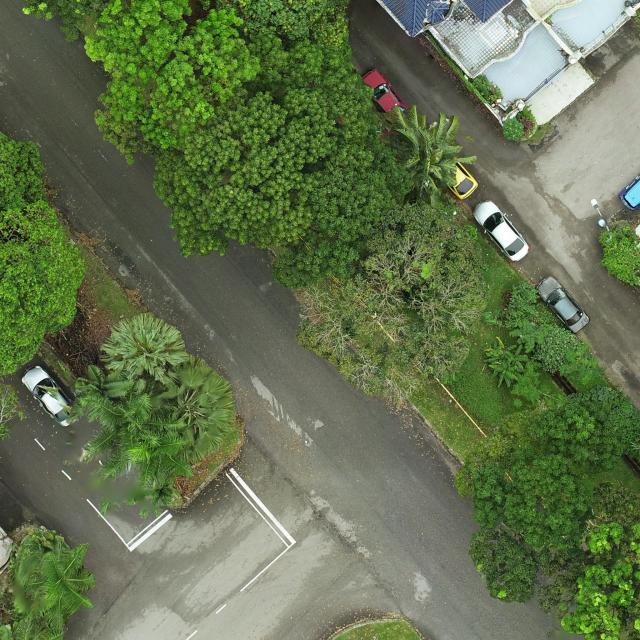banana_tree2: (483, 336, 528, 387)
tree: (151, 78, 414, 292), (298, 198, 490, 406), (454, 397, 625, 607), (83, 0, 258, 166), (0, 201, 86, 380), (65, 386, 193, 496), (372, 104, 478, 211), (150, 353, 236, 466), (7, 528, 93, 620), (98, 312, 189, 383), (0, 127, 47, 215), (597, 231, 640, 286), (503, 118, 524, 140)
